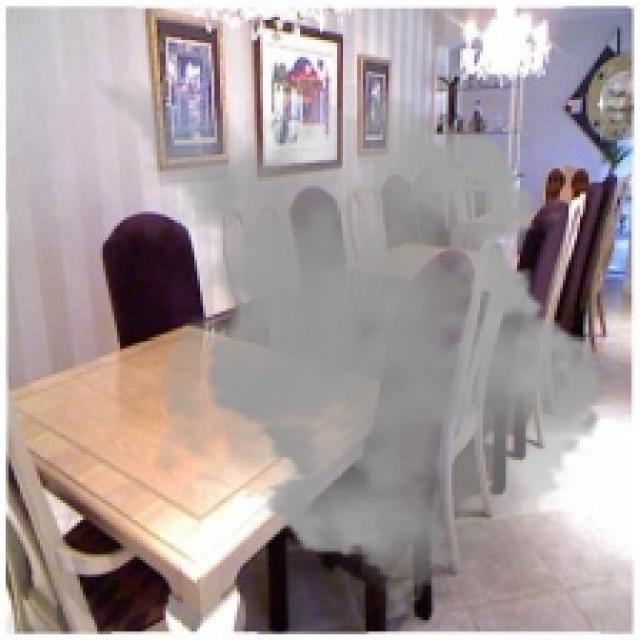Smoke: (65, 65, 618, 618)
